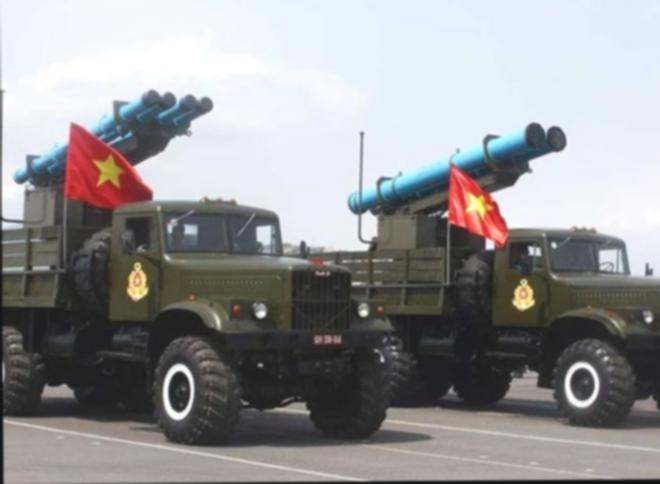License_Plate: (313, 333, 346, 347)
